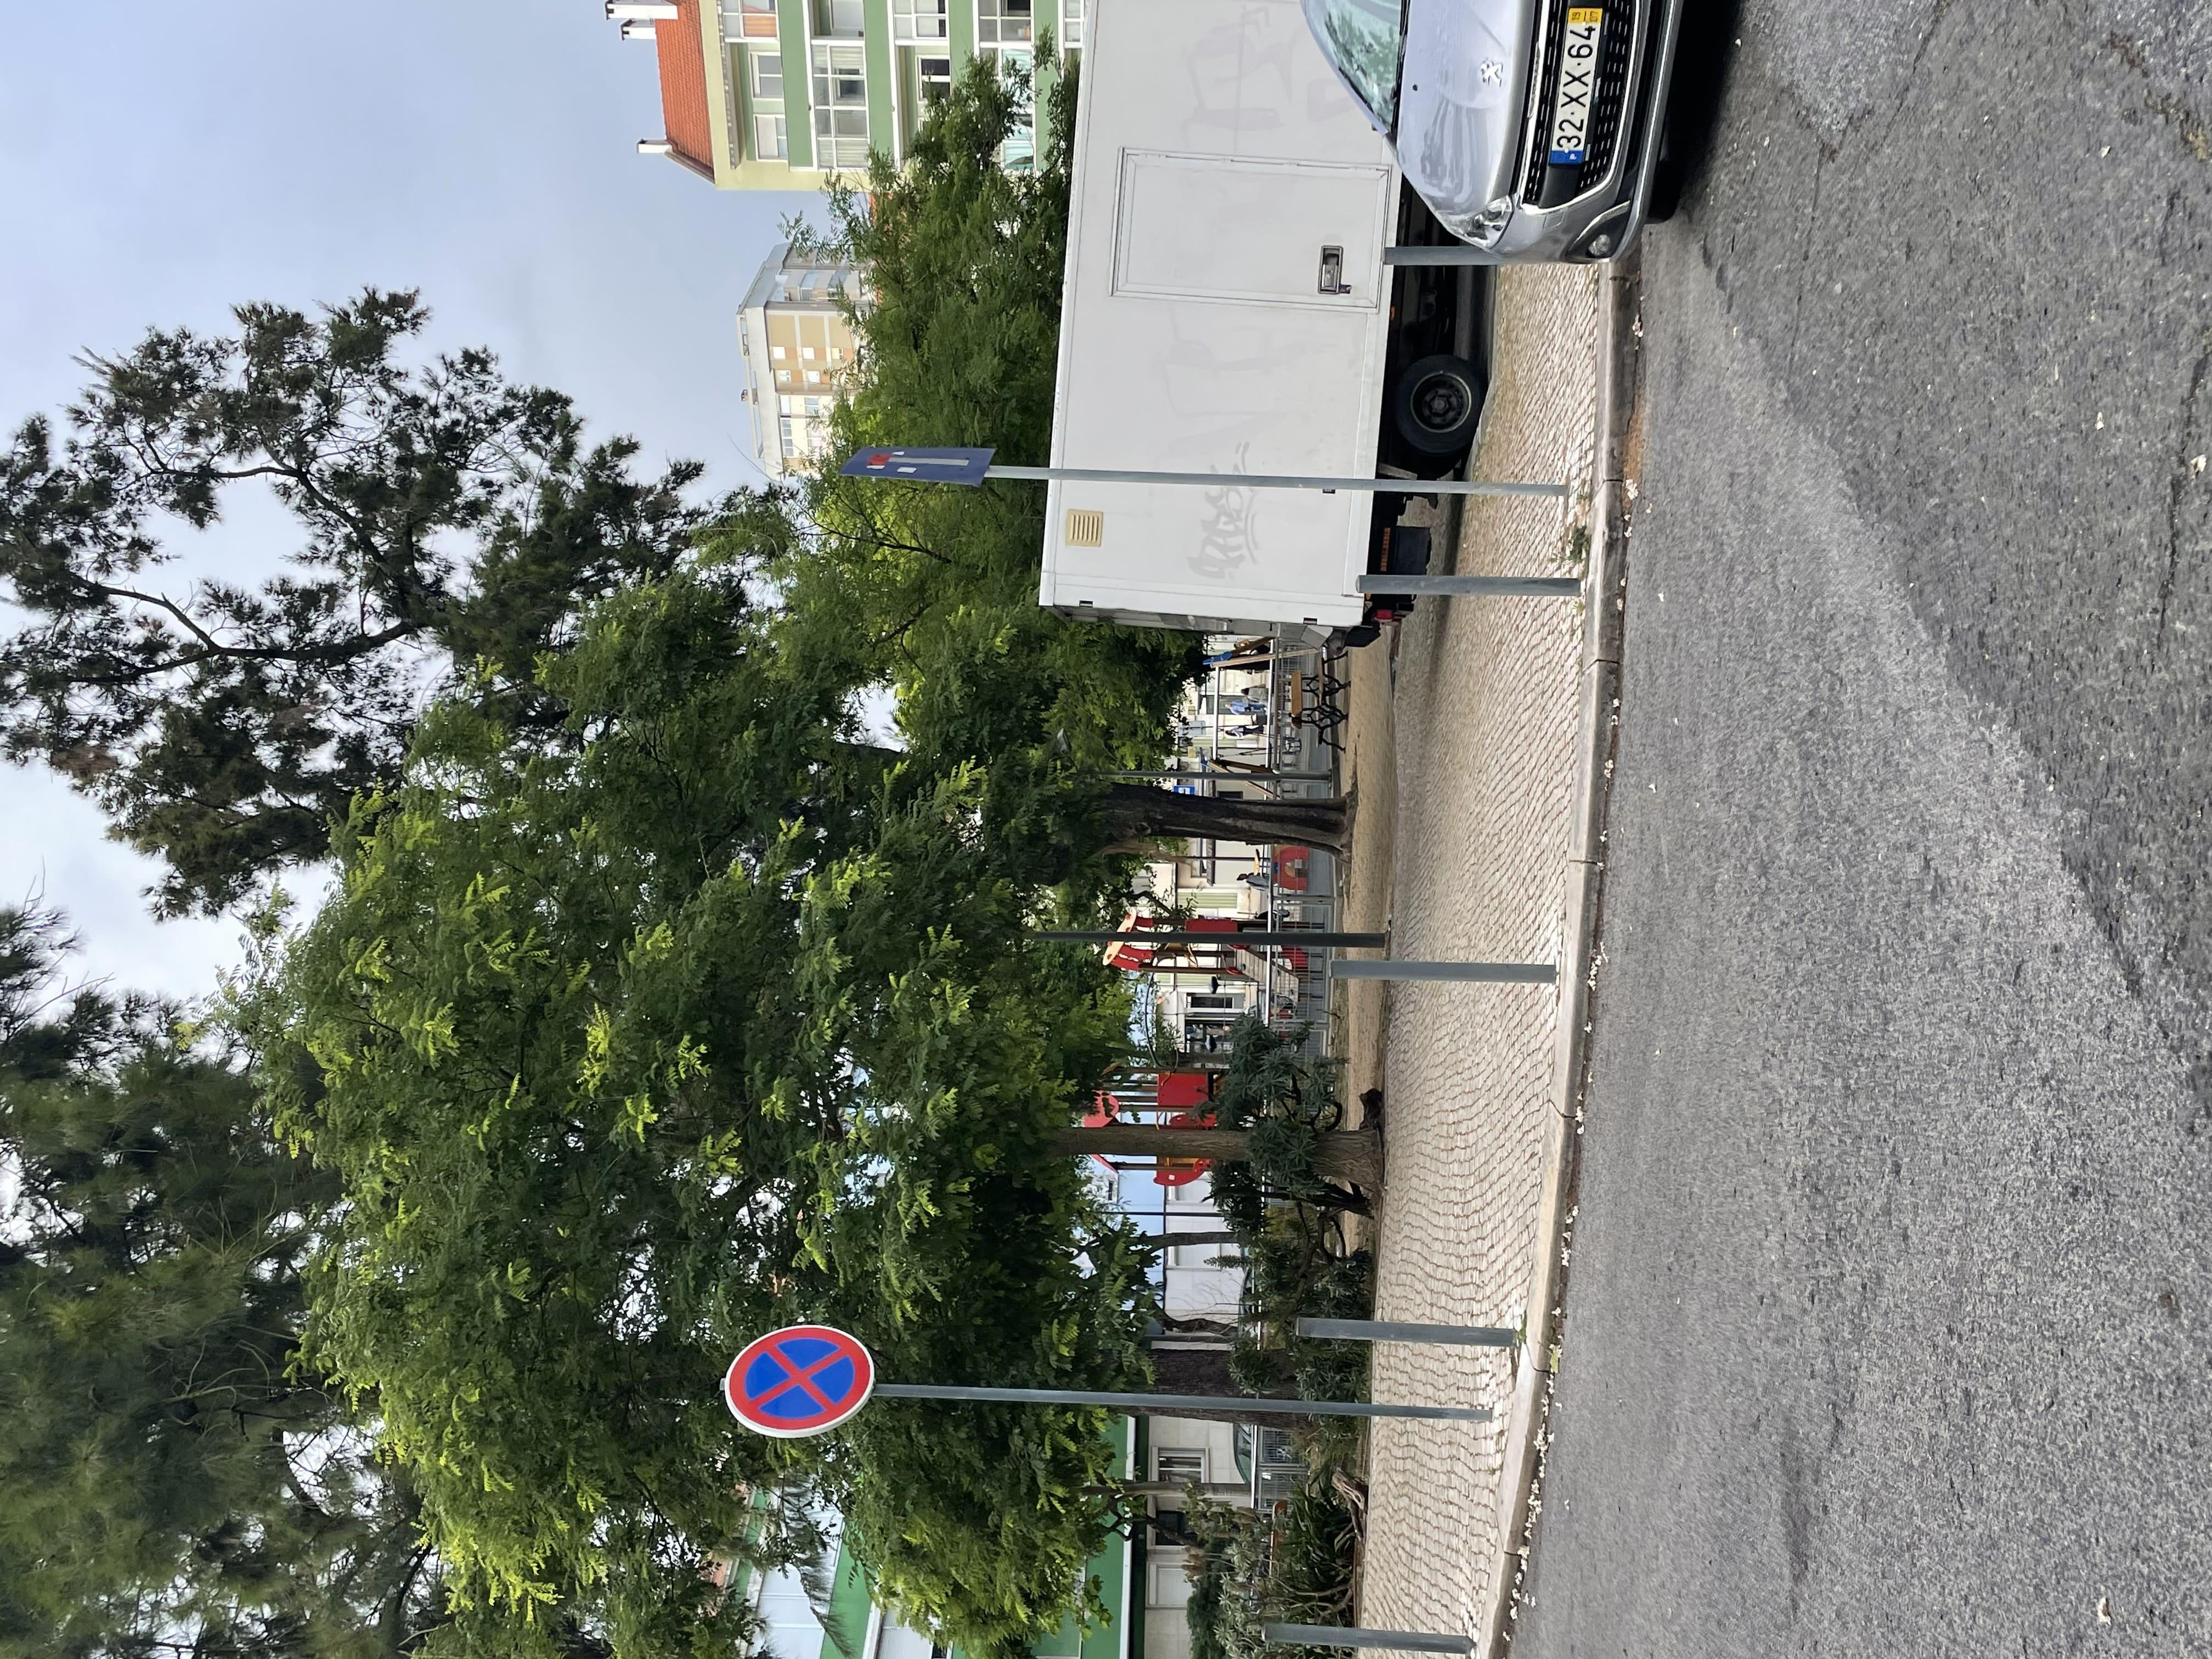paragem e estacionamneto proibidos: (718, 1324, 871, 1436)
